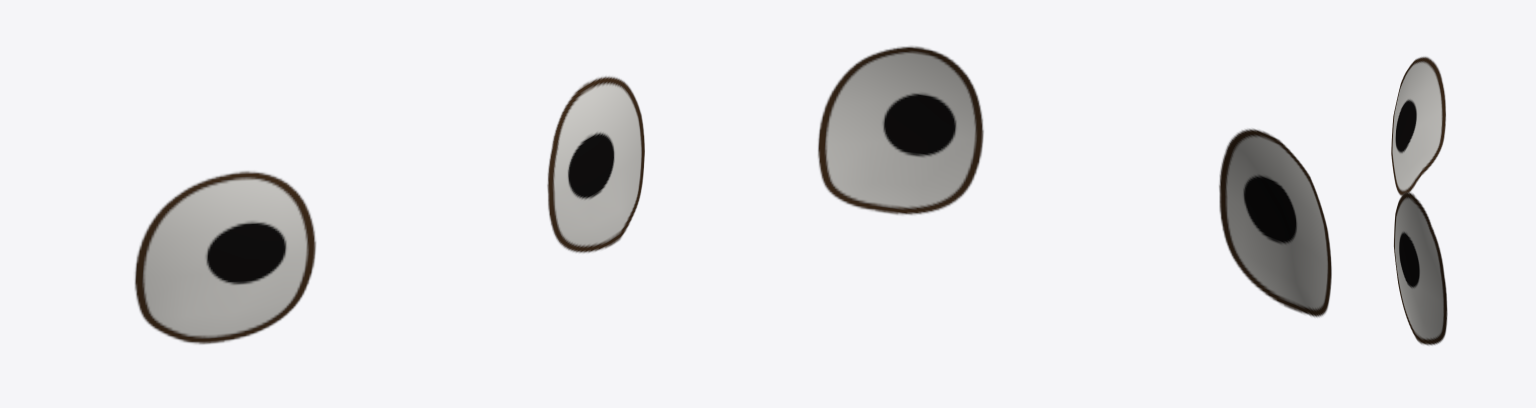
The model's file is eye 04.glb.
The picture shows the model from 3 angles, left to right: view 1: azimuth 30°, elevation 25°; view 2: azimuth 150°, elevation 25°; view 3: azimuth 270°, elevation 25°; orthographic projection. The views are drawn at different scales.
Visible parts, largest first — view 1: Eye_4; view 2: Eye_4; view 3: Eye_4.
Part boxes in pixels (x1,y1,x2,y2): Eye_4: (134,75,644,344); Eye_4: (817,46,1331,317); Eye_4: (1391,56,1447,345).
Bounding box in the file's own units: 0.00677 × 0.00271 × 0.00151.
Materials: 1 (1 with a texture image).
